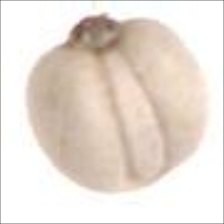L5: (99, 44, 173, 187), (61, 10, 133, 56)
L6: (23, 13, 210, 195)
